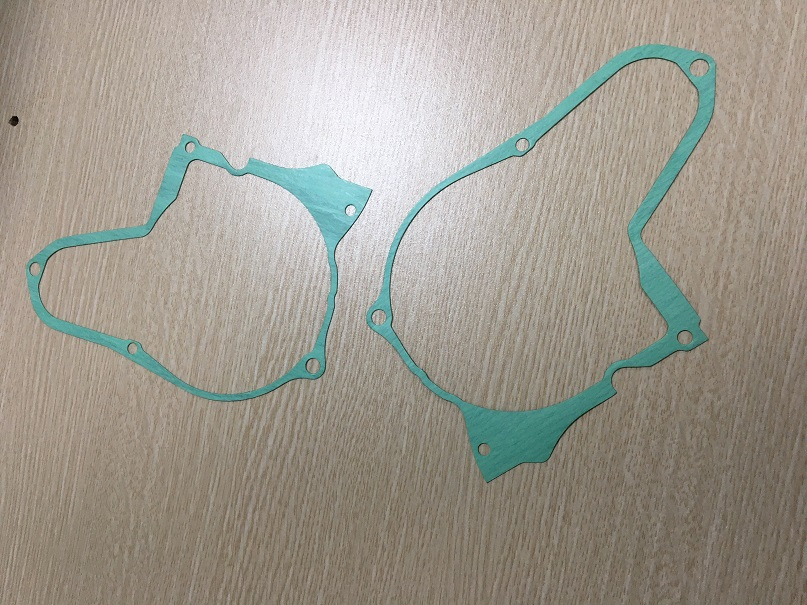type1: (359, 40, 739, 501), (19, 129, 383, 410)
